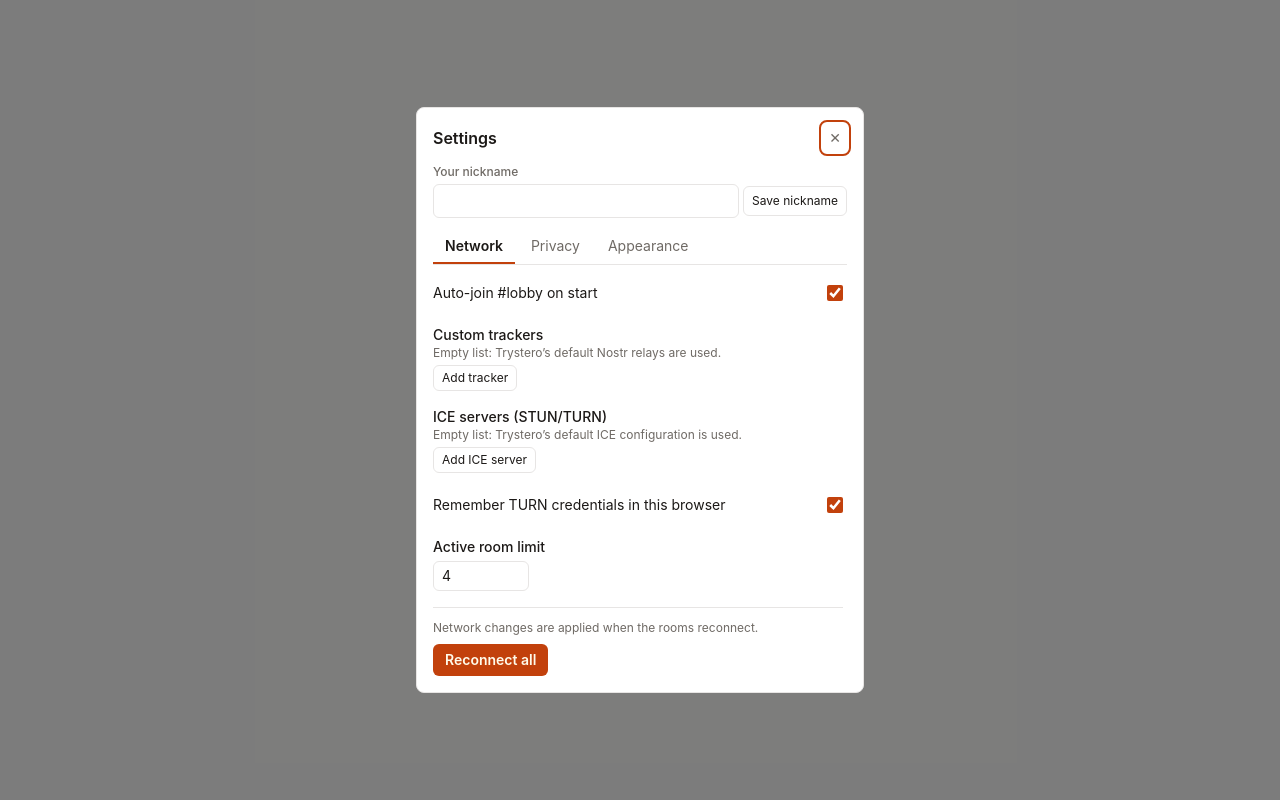
Test: Red tab (RF-07) › shows the defaults hint and validates the wss:// scheme on trackers
Check: the text "Empty list: Trystero’s default Nostr relays are used." is shown, box [433,345,721,360]
Click the button "Add tracker" at (475, 378), box [433,365,517,391]
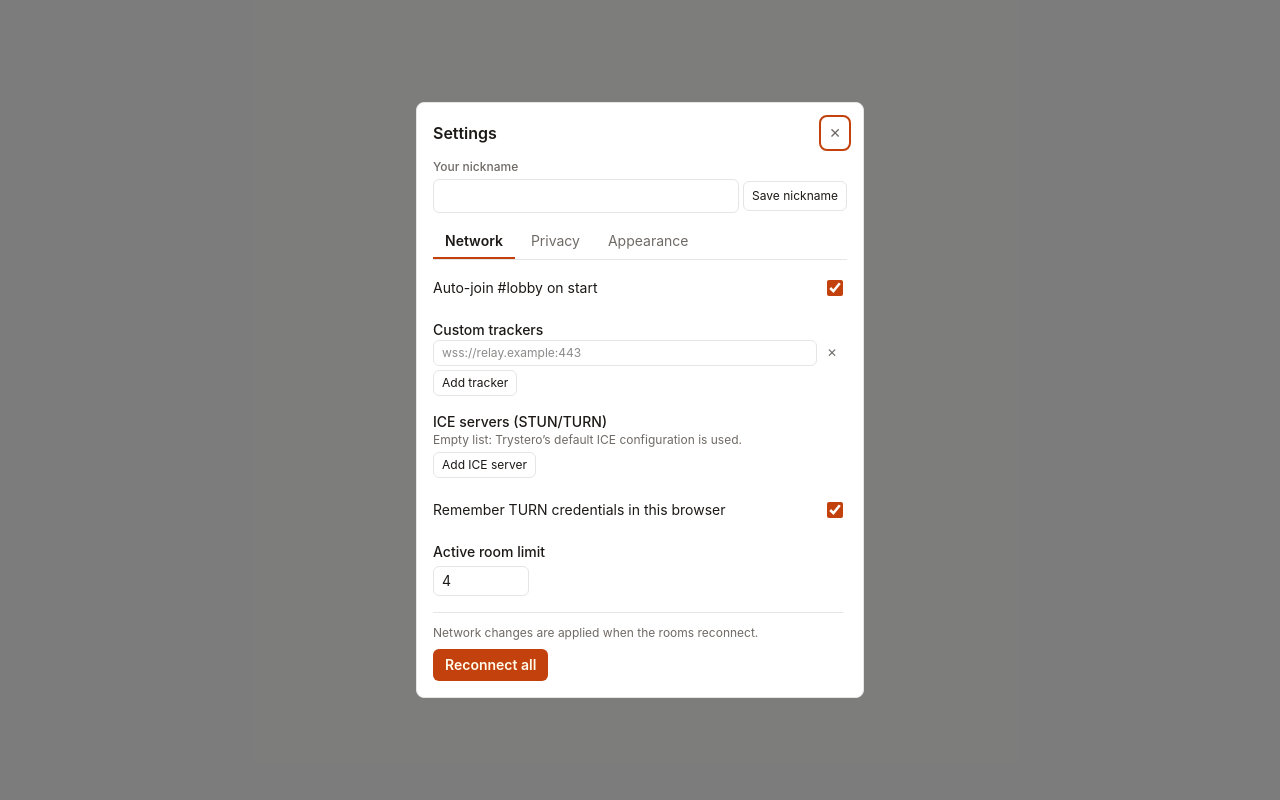
Type "http://no" into the field named "Tracker 1" at (625, 353), box [433,340,817,366]
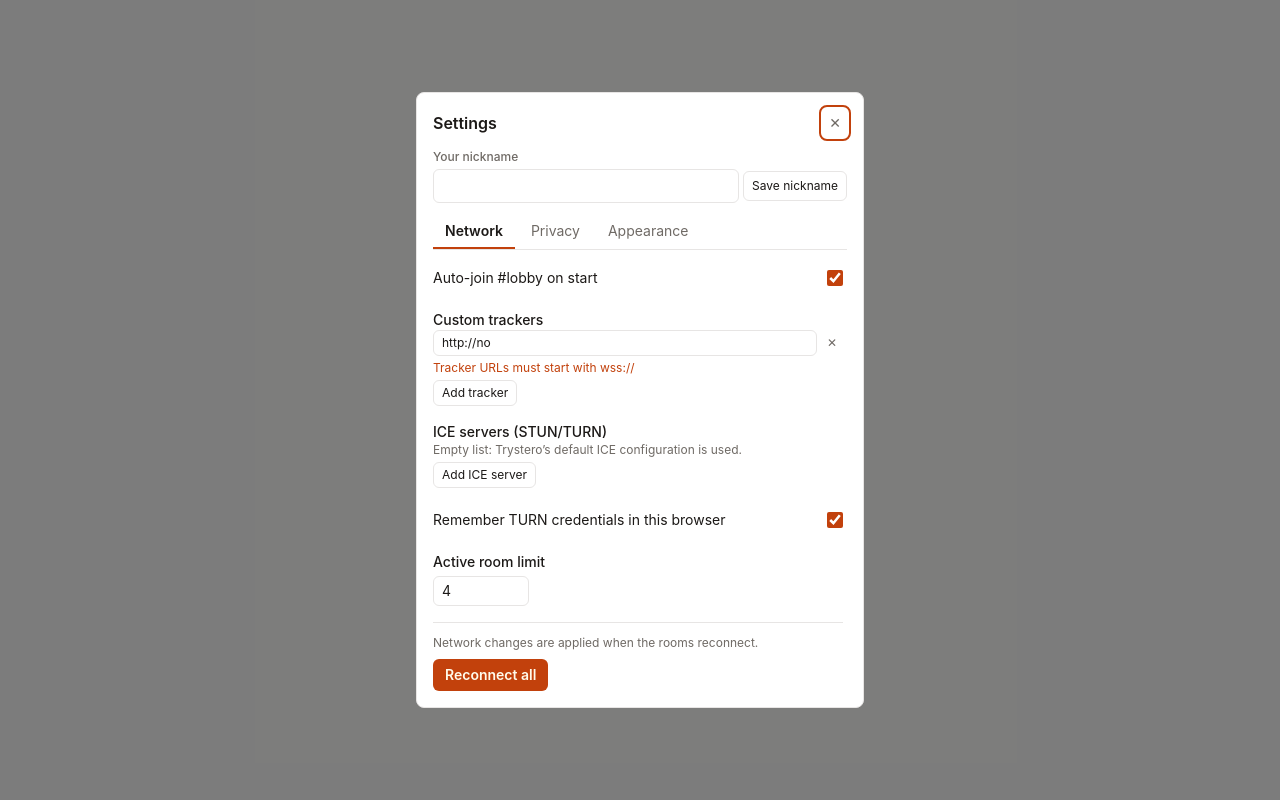
Check: the message reads "Tracker URLs must start with wss://", box [433,360,635,375]
Replace the text in the field named "Tracker 1" with "wss://relay.example:443" at (625, 343), box [433,330,817,356]
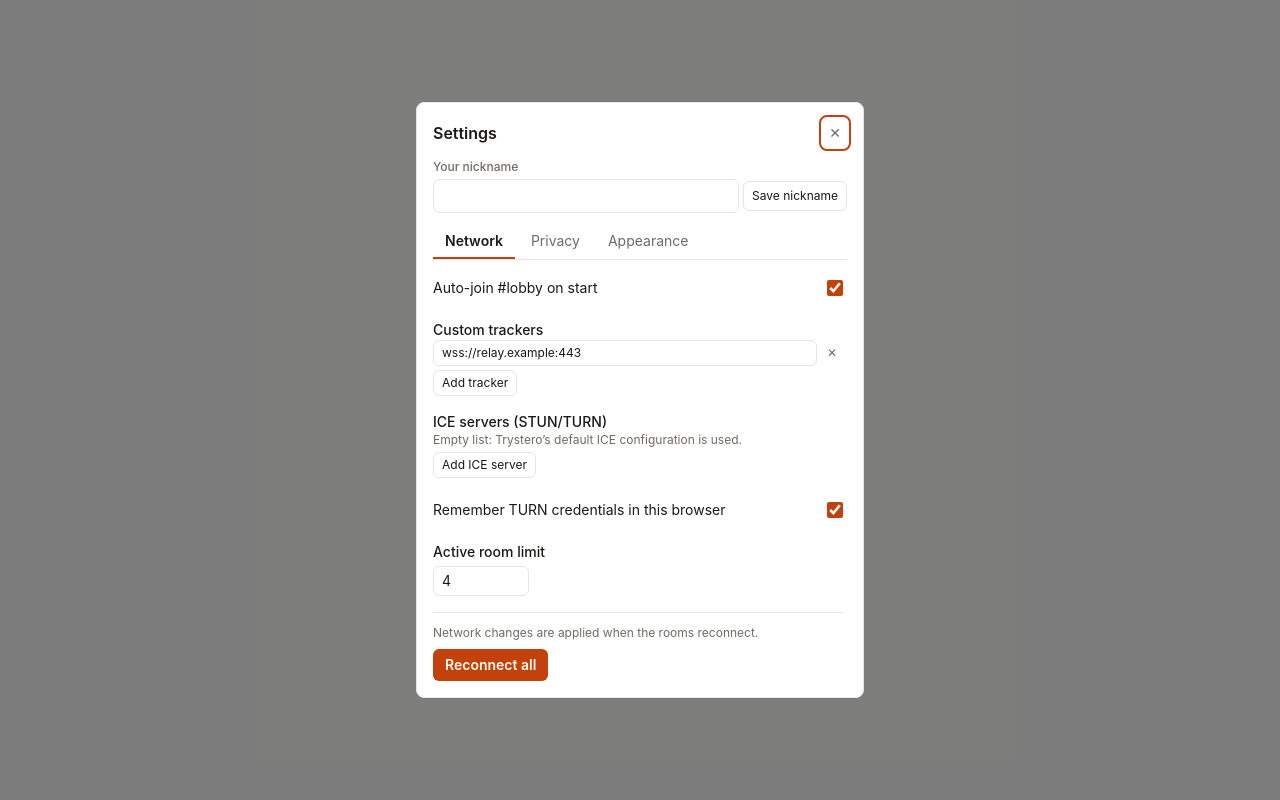
Check: the message "Tracker URLs must start with wss://" is gone
